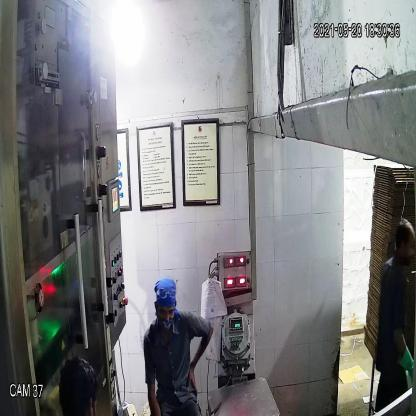no_goggles: (154, 302, 178, 321)
